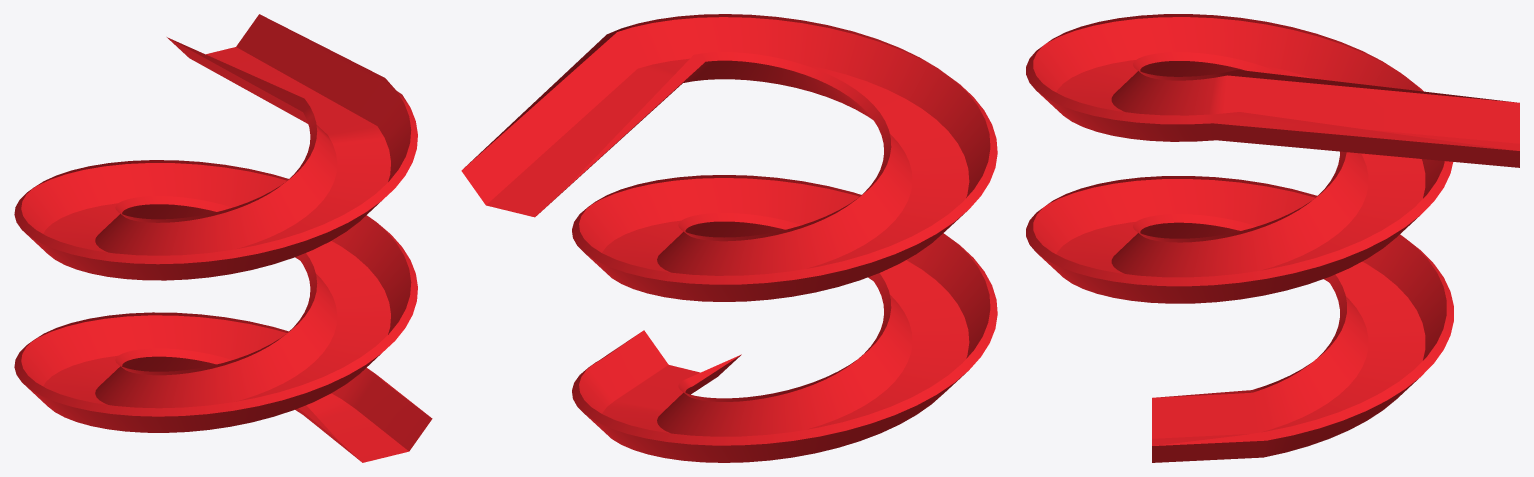
The model's file is spiral.obj.
The picture shows the model from 3 angles, left to right: view 1: azimuth 30°, elevation 25°; view 2: azimuth 150°, elevation 25°; view 3: azimuth 270°, elevation 25°; orthographic projection. The views are drawn at different scales.
Visible parts, largest first — view 1: pHelix1; view 2: pHelix1; view 3: pHelix1.
Boxes of the visible parts, <box> form: pHelix1: <box>14,14,432,462</box>; pHelix1: <box>461,14,997,462</box>; pHelix1: <box>1026,14,1519,462</box>.
Bounding box in the file's own units: 6 × 5.56 × 6.91.
1 material, 1 textured.
